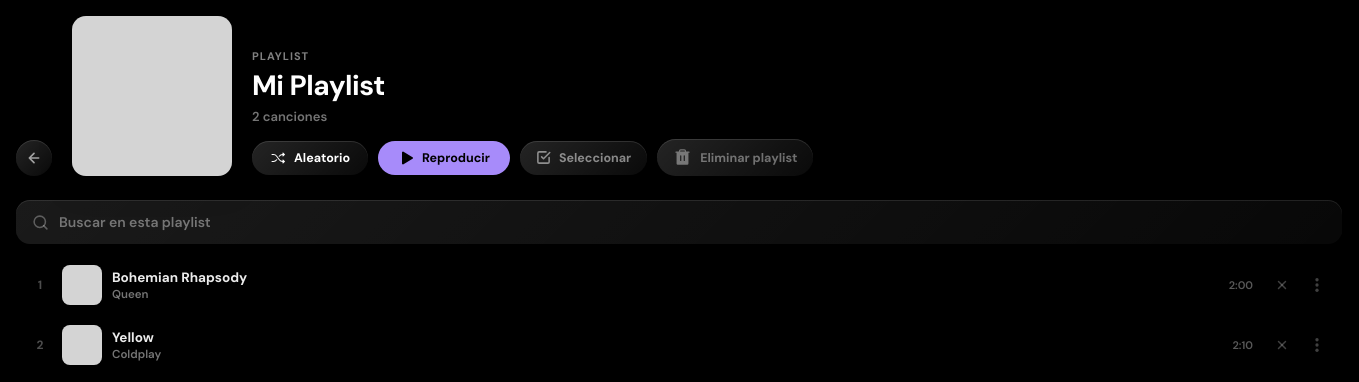
Test: PlaylistView — buscador local › filtra las canciones de la playlist mientras se escribe
Expected: the text "Bohemian Rhapsody" is shown, [112,268,247,286]
Type "queen" into the field with placeholder "Buscar en esta playlist" at (692, 222), box [59,200,1326,244]
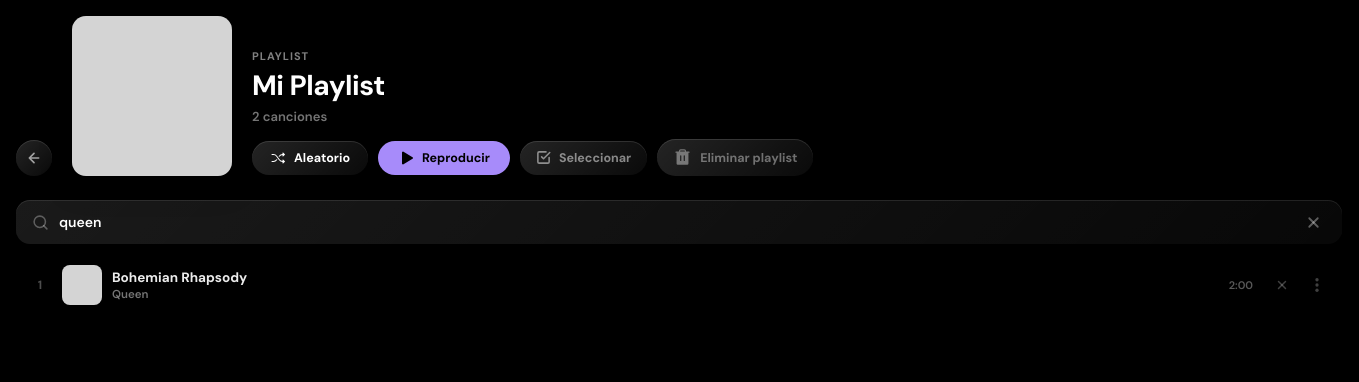
Expected: the text "Bohemian Rhapsody" is shown, [112,268,247,286]
Expected: the text "Yellow" is gone
